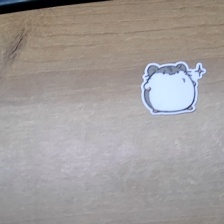mouse: (139, 60, 209, 119)
